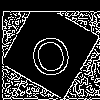O: (25, 25, 74, 80)
